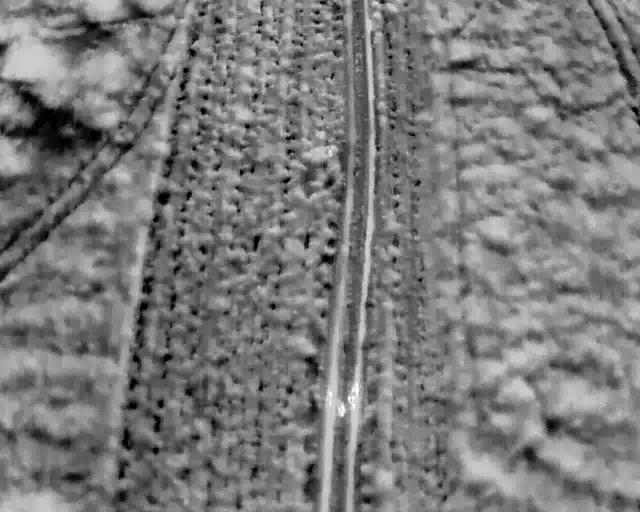person: (324, 391, 334, 406), (347, 394, 357, 409), (338, 402, 347, 417), (351, 382, 360, 397)
